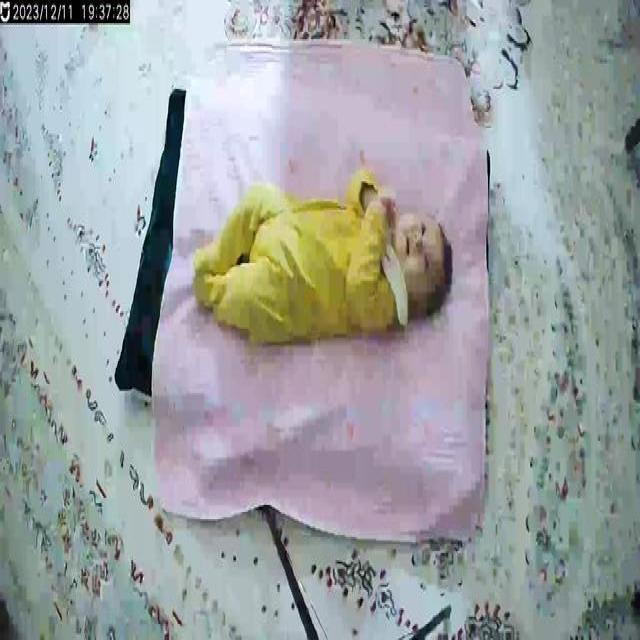baby: (193, 170, 457, 350)
